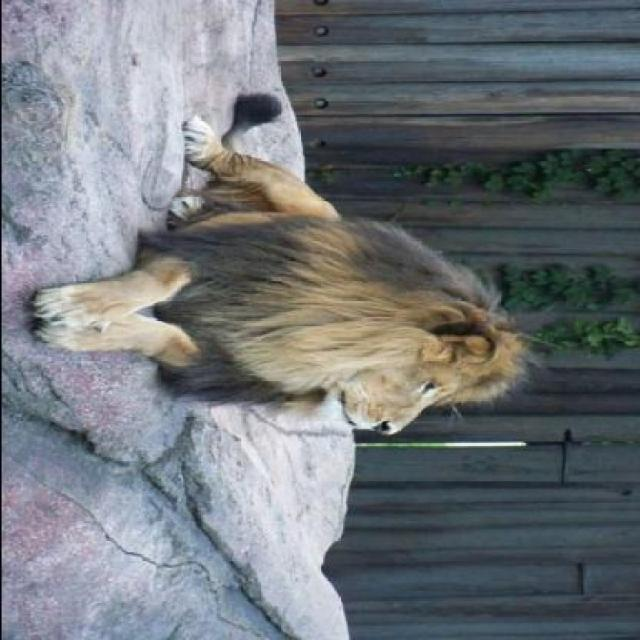Lion: (23, 88, 543, 450)
